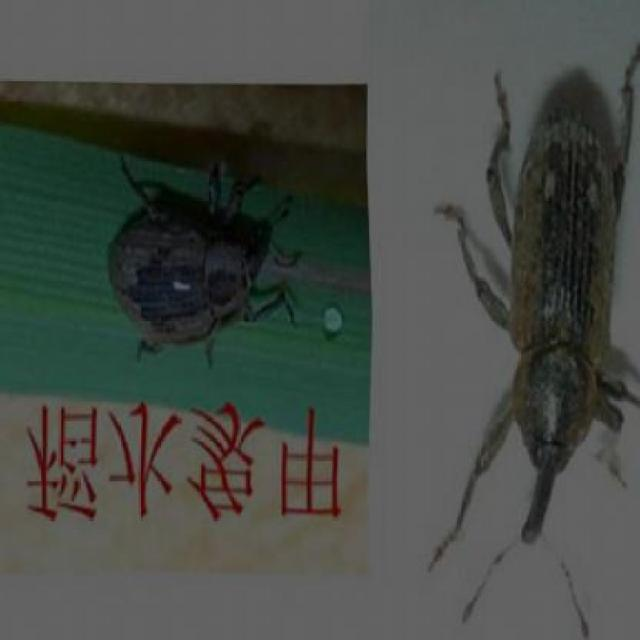rice-bug: (443, 46, 640, 628), (112, 152, 286, 357)
